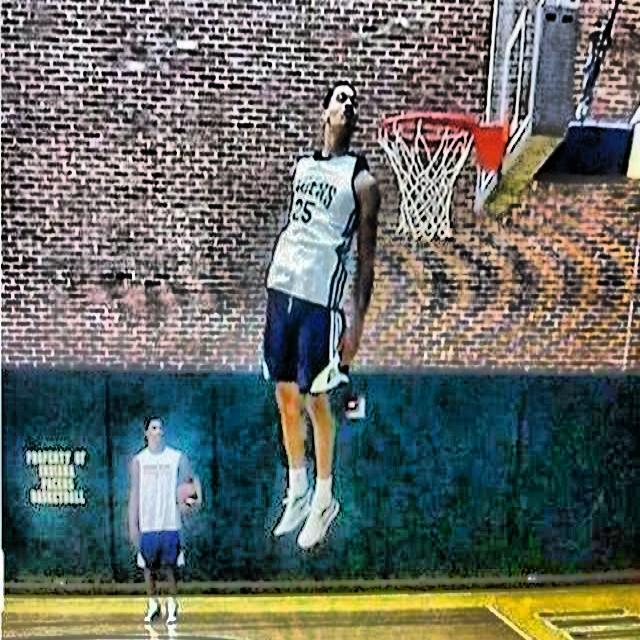rim: (379, 113, 478, 243)
